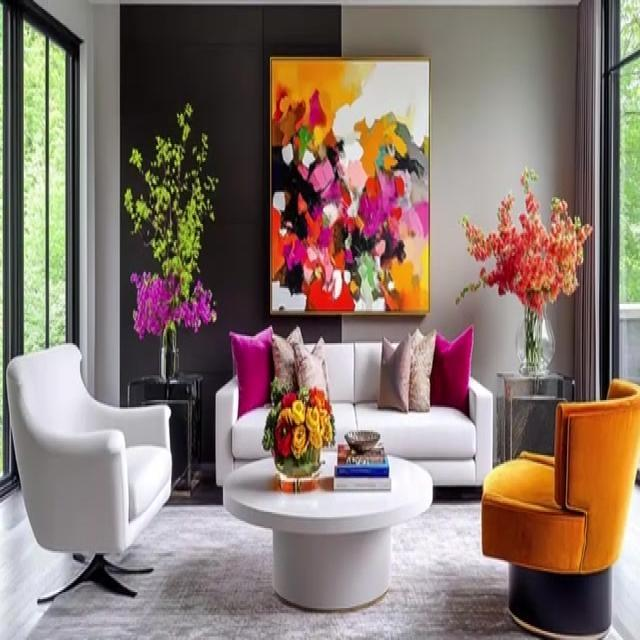obstacle: (214, 336, 493, 498), (5, 341, 172, 603), (481, 376, 639, 638), (222, 448, 433, 612), (126, 372, 203, 498)
